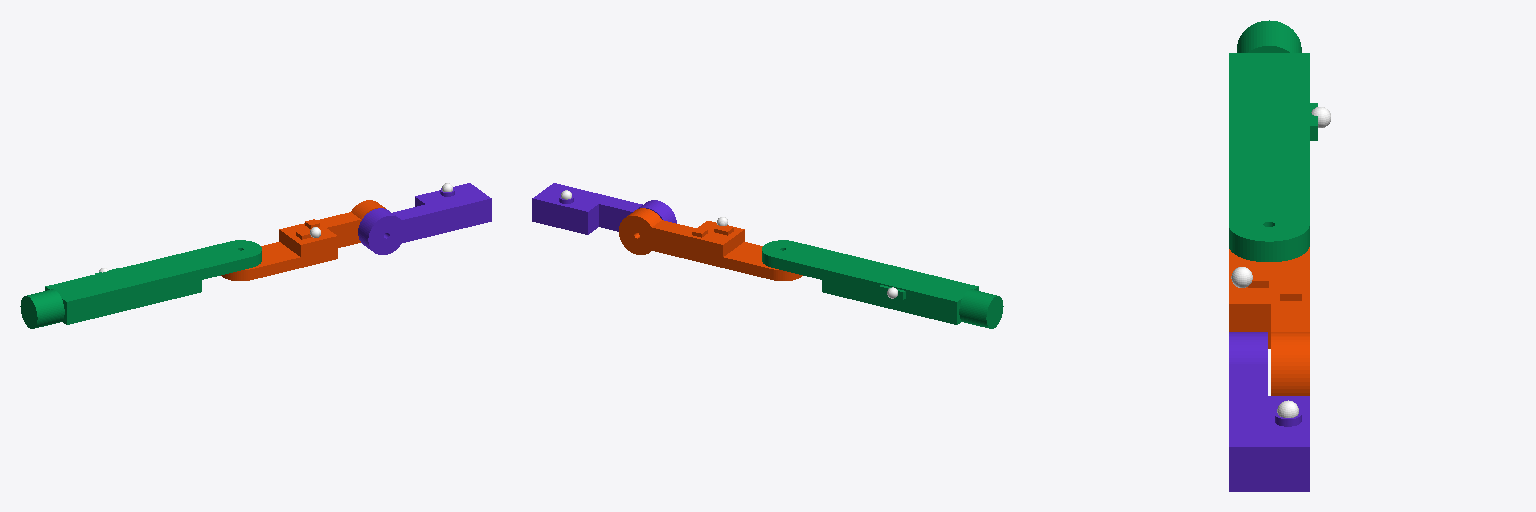
robot.urdf — l_phantom_v3:
<?xml version="1.0"?>
<robot name="l_phantom_v3">
  <material name="root_green"><color rgba="0.05 0.62 0.35 1"/></material>
  <material name="elbow_orange"><color rgba="0.95 0.35 0.05 1"/></material>
  <material name="tip_purple"><color rgba="0.42 0.22 0.85 1"/></material>
  <material name="white"><color rgba="1 1 1 1"/></material>
  <link name="v3_part0_root">
    <visual name="v3_part0_root_mesh">
      <geometry><mesh filename="v3_part0_root.obj" scale="0.001 0.001 0.001"/></geometry>
      <material name="root_green"/>
    </visual>
    <visual name="v3_part0_root_label">
      <origin xyz="0.050 0.019 0.006"/>
      <geometry><sphere radius="0.004"/></geometry>
      <material name="white"/>
    </visual>
    <collision name="part0_bar_collision">
      <origin xyz="0.055000 0 0"/>
      <geometry><box size="0.110000 0.030000 0.018000"/></geometry>
    </collision>
    <inertial>
      <origin xyz="0.05982472 0.00007177 0.00077157"/>
      <mass value="0.40000"/>
      <inertia ixx="0.0000393347" ixy="0.0000002246"
        ixz="-0.0000227326" iyy="0.0009296295"
        iyz="-0.0000001214" izz="0.0009467782"/>
    </inertial>
  </link>
  <link name="v3_part1_elbow">
    <visual name="v3_part1_elbow_mesh">
      <geometry><mesh filename="v3_part1_elbow.obj" scale="0.001 0.001 0.001"/></geometry>
      <material name="elbow_orange"/>
    </visual>
    <visual name="v3_part1_elbow_label">
      <origin xyz="0.055 -0.010 0.013"/>
      <geometry><sphere radius="0.004"/></geometry>
      <material name="white"/>
    </visual>
    <collision name="part1_bar_collision">
      <origin xyz="0.055000 0 0"/>
      <geometry><box size="0.030000 0.030000 0.018000"/></geometry>
    </collision>
    <inertial>
      <origin xyz="0.05944421 0.00280704 -0.00123153"/>
      <mass value="0.33000"/>
      <inertia ixx="0.0000330458" ixy="-0.0000366994"
        ixz="-0.0000198198" iyy="0.0004484235"
        iyz="-0.0000011766" izz="0.0004594151"/>
    </inertial>
  </link>
  <link name="v3_part2_tip">
    <visual name="v3_part2_tip_mesh">
      <geometry><mesh filename="v3_part2_tip.obj" scale="0.001 0.001 0.001"/></geometry>
      <material name="tip_purple"/>
    </visual>
    <visual name="v3_part2_tip_label">
      <origin xyz="0.062 0.007 0.013"/>
      <geometry><sphere radius="0.004"/></geometry>
      <material name="white"/>
    </visual>
    <collision name="part2_bar_collision">
      <origin xyz="0.062500 0 0"/>
      <geometry><box size="0.045000 0.030000 0.018000"/></geometry>
    </collision>
    <inertial>
      <origin xyz="0.04154190 -0.00310785 0.00005978"/>
      <mass value="0.27000"/>
      <inertia ixx="0.0000273382" ixy="-0.0000262571"
        ixz="-0.0000003302" iyy="0.0002350796"
        iyz="-0.0000001632" izz="0.0002435316"/>
    </inertial>
  </link>
  <joint name="joint1" type="revolute">
    <parent link="v3_part0_root"/><child link="v3_part1_elbow"/>
    <origin xyz="0.15000 0 0"/>
    <axis xyz="0 0 1"/>
    <limit lower="-2.32128791" upper="2.32128791" effort="10" velocity="2"/>
    <dynamics damping="0.03" friction="0"/>
  </joint>
  <joint name="joint2" type="revolute">
    <parent link="v3_part1_elbow"/><child link="v3_part2_tip"/>
    <origin xyz="0.11000 0 0"/>
    <axis xyz="0 1 0"/>
    <limit lower="-2.56563400" upper="2.60054059" effort="10" velocity="2"/>
    <dynamics damping="0.03" friction="0"/>
  </joint>
</robot>

--- Render facts (derived) ---
The picture shows the robot from 3 angles, left to right: view 1: azimuth 30°, elevation 25°; view 2: azimuth 150°, elevation 25°; view 3: azimuth 270°, elevation 25°; orthographic projection.
Model l_phantom_v3 with 3 links and 2 joints (2 revolute), rooted at v3_part0_root, posed every joint at zero.
Visible links, largest first — view 1: v3_part0_root, v3_part2_tip, v3_part1_elbow; view 2: v3_part0_root, v3_part1_elbow, v3_part2_tip; view 3: v3_part0_root, v3_part2_tip, v3_part1_elbow.
Link boxes in pixels (box(x1,y1,x2,y2)): v3_part0_root: box(20, 240, 261, 328); v3_part2_tip: box(358, 183, 491, 254); v3_part1_elbow: box(221, 200, 385, 280); v3_part0_root: box(762, 240, 1003, 328); v3_part1_elbow: box(619, 208, 802, 280); v3_part2_tip: box(532, 183, 676, 234); v3_part0_root: box(1229, 20, 1330, 261); v3_part2_tip: box(1229, 332, 1309, 491); v3_part1_elbow: box(1229, 247, 1309, 395).
Size in the robot's own frame: 0.367 by 0.038 by 0.032 metres.
3 mesh visuals loaded from 3 distinct referenced files (3 OBJ).
